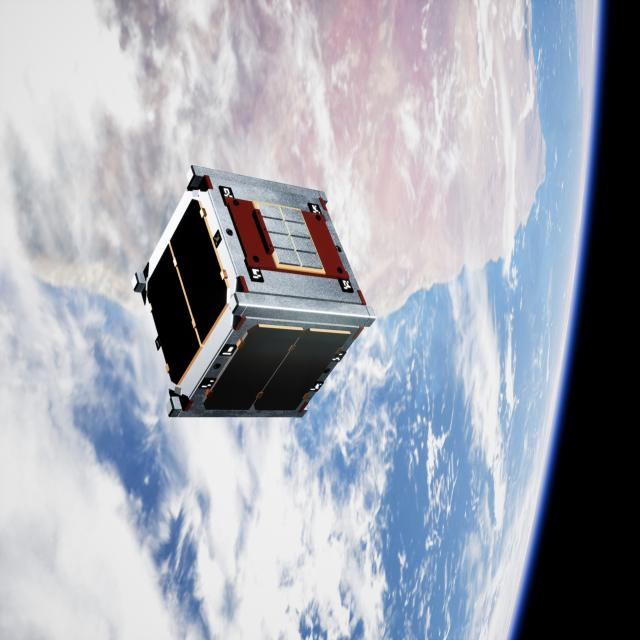satellite: (131, 160, 383, 423)
